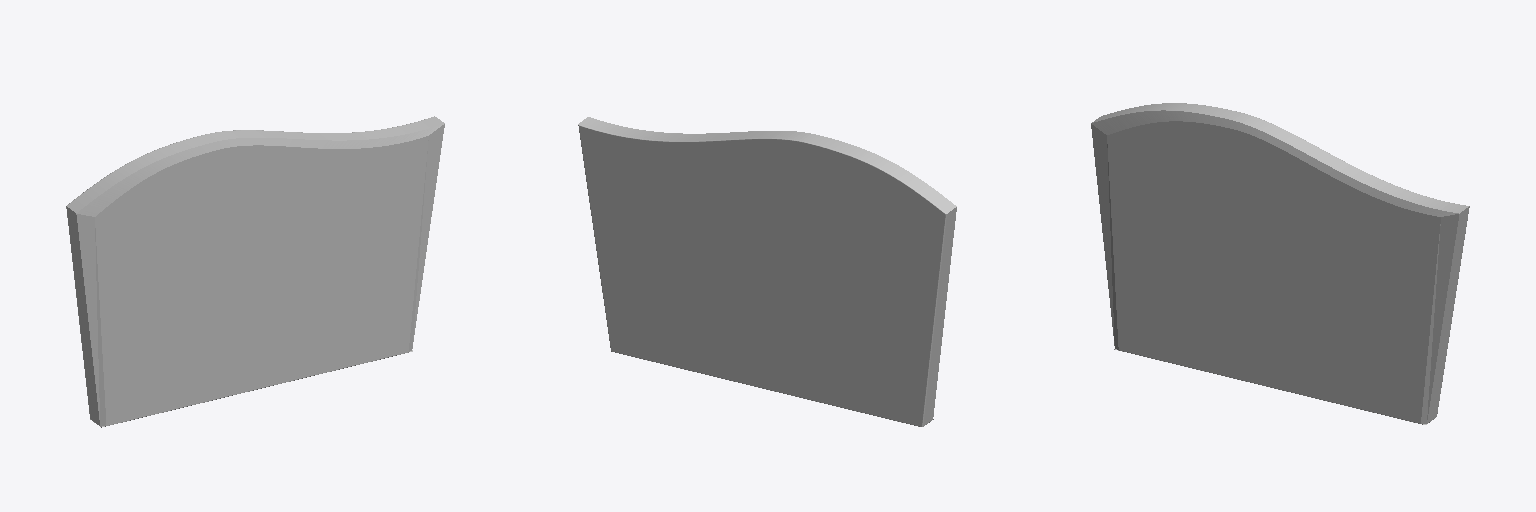
3 views of the same model, side by side, from view 1: azimuth 30°, elevation 25°; view 2: azimuth 150°, elevation 25°; view 3: azimuth 330°, elevation 25° (orthographic).
Parts seen in each view (by area): view 1: stella; view 2: stella; view 3: stella.
Boxes of the visible parts, <box> form: stella: <box>66,116,444,427</box>; stella: <box>578,117,956,426</box>; stella: <box>1091,103,1469,424</box>.
Bounding box in the file's own units: 90 × 60 × 5.